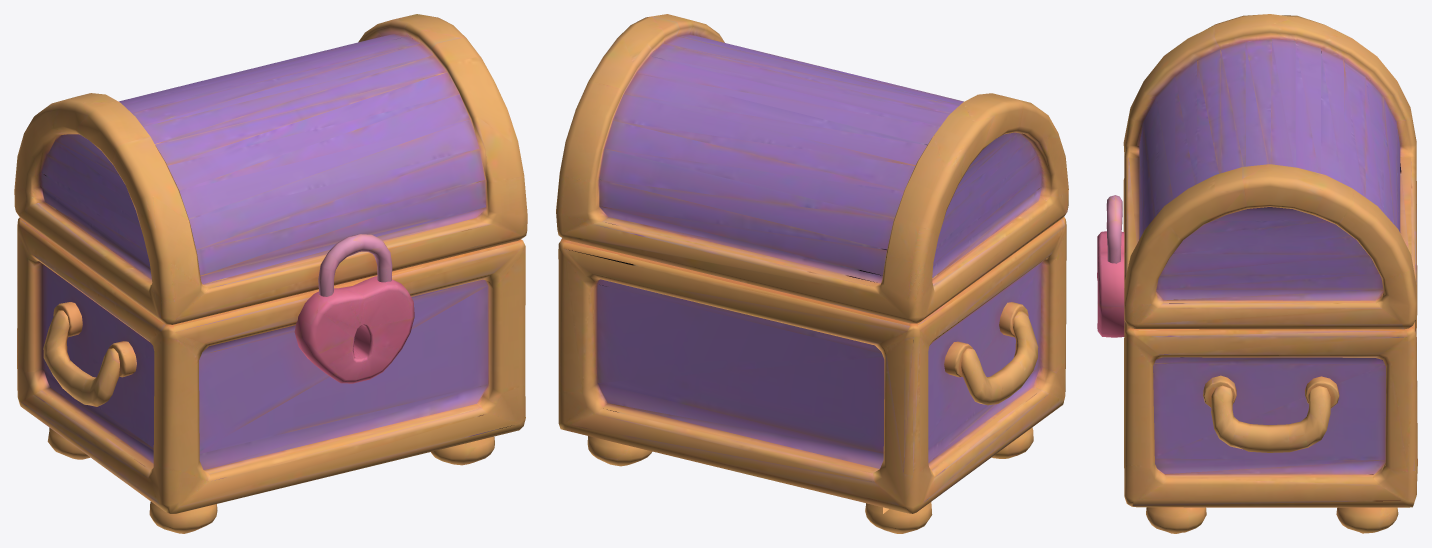
The model's file is chest.glb.
3 renders of one model, left to right at view 1: azimuth 30°, elevation 25°; view 2: azimuth 150°, elevation 25°; view 3: azimuth 270°, elevation 25°, orthographic. The views are drawn at different scales.
Visible parts, largest first — view 1: geometry_0; view 2: geometry_0; view 3: geometry_0.
Boxes of the visible parts, x1,y1,x2,y2 form: geometry_0: [14, 14, 527, 533]; geometry_0: [556, 14, 1068, 533]; geometry_0: [1097, 14, 1417, 533].
Size of the model in its own units: 1 by 0.9314 by 0.7321.
1 material, 1 textured.
